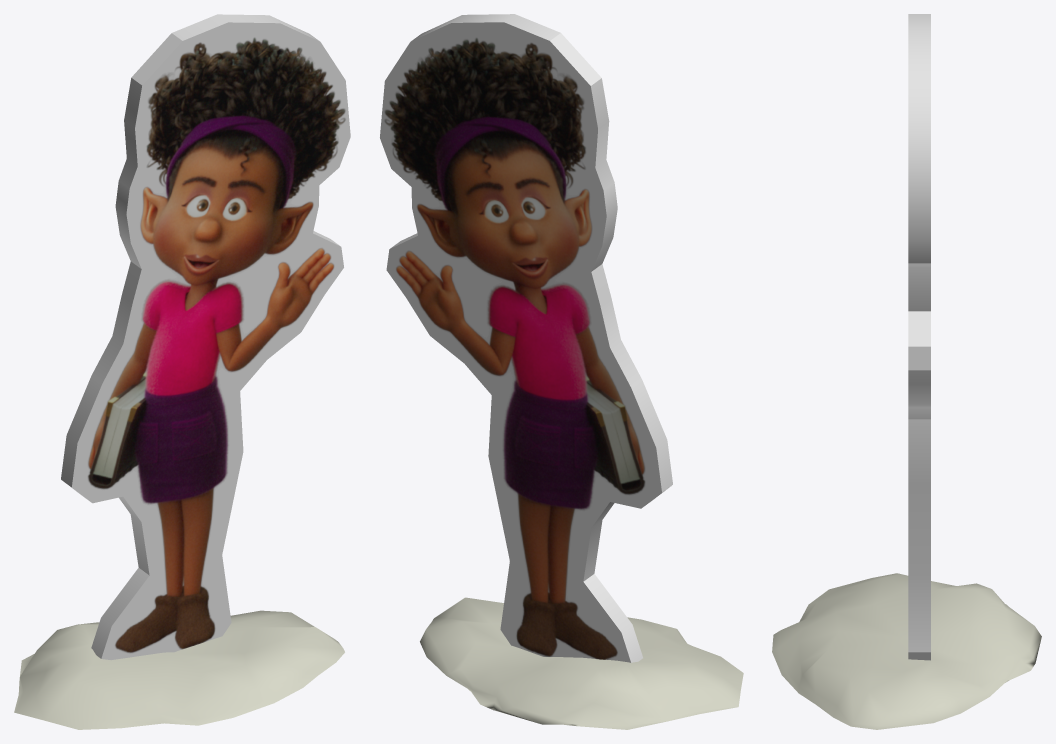
File: Elf_2.glb
3 renders of one model, left to right at view 1: azimuth 30°, elevation 25°; view 2: azimuth 150°, elevation 25°; view 3: azimuth 270°, elevation 25°, orthographic. The views are drawn at different scales.
Visible parts, largest first — view 1: Elf_2.002, Elf_2.001, Elf 2; view 2: Elf_2, Elf_2.001, Elf 2; view 3: Elf 2, Elf_2.001.
Part boxes in pixels (bbox=[...]): Elf_2.002: bbox=[88, 38, 345, 652]; Elf_2.001: bbox=[61, 14, 350, 660]; Elf 2: bbox=[14, 610, 344, 729]; Elf_2: bbox=[384, 38, 644, 659]; Elf_2.001: bbox=[380, 14, 672, 662]; Elf 2: bbox=[420, 597, 743, 729]; Elf 2: bbox=[772, 573, 1041, 729]; Elf_2.001: bbox=[908, 14, 930, 660].
Size of the model in its own units: 0.0285 by 0.0507 by 0.0189.
3 materials, 2 textured.
